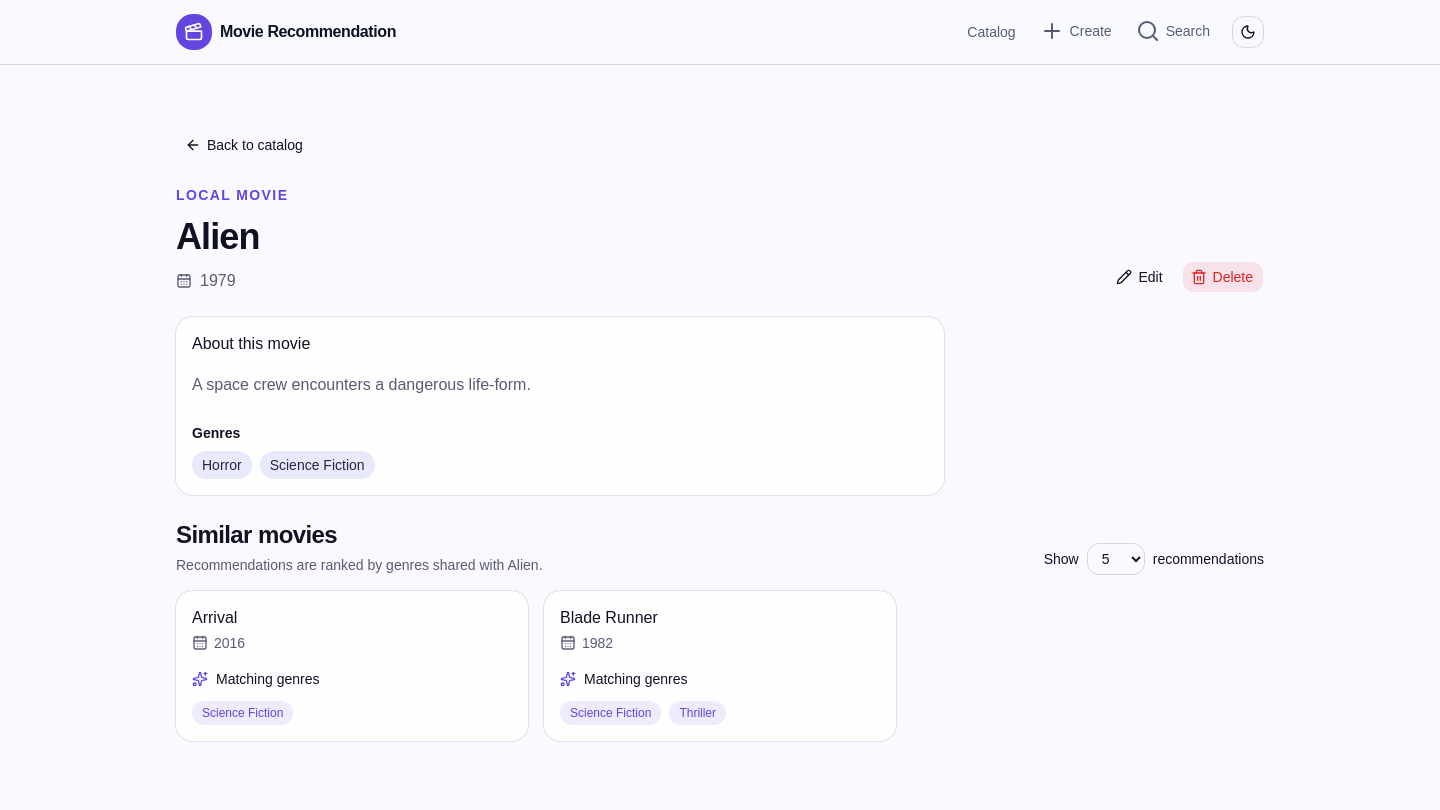
Scenario: DeleteMovieDialog › removes a deleted movie from cache and the catalog UI
Click the button "Delete" at point(1223, 277), box [1182, 261, 1264, 293]
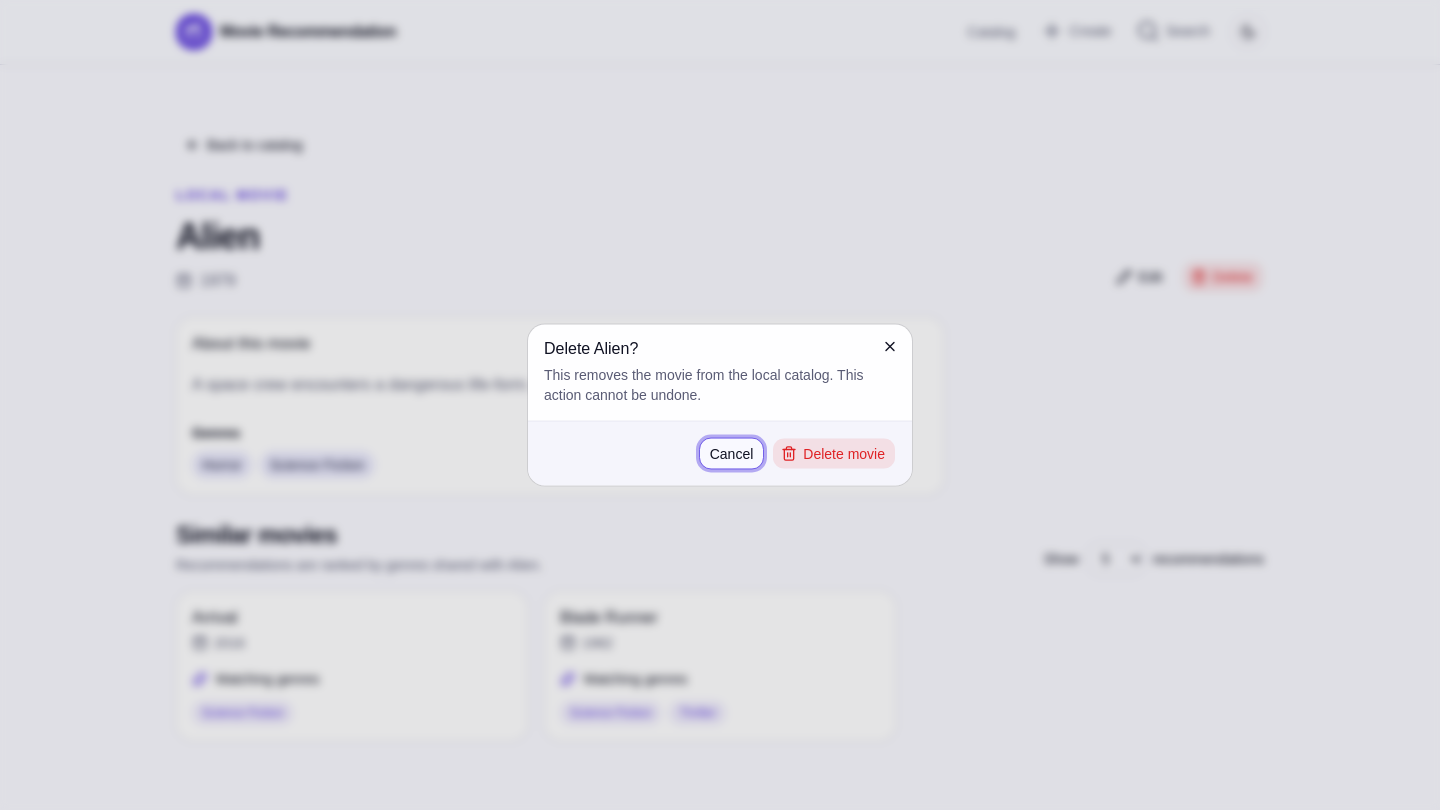
Click the button "Delete movie" at point(834, 454), box [772, 438, 896, 470]
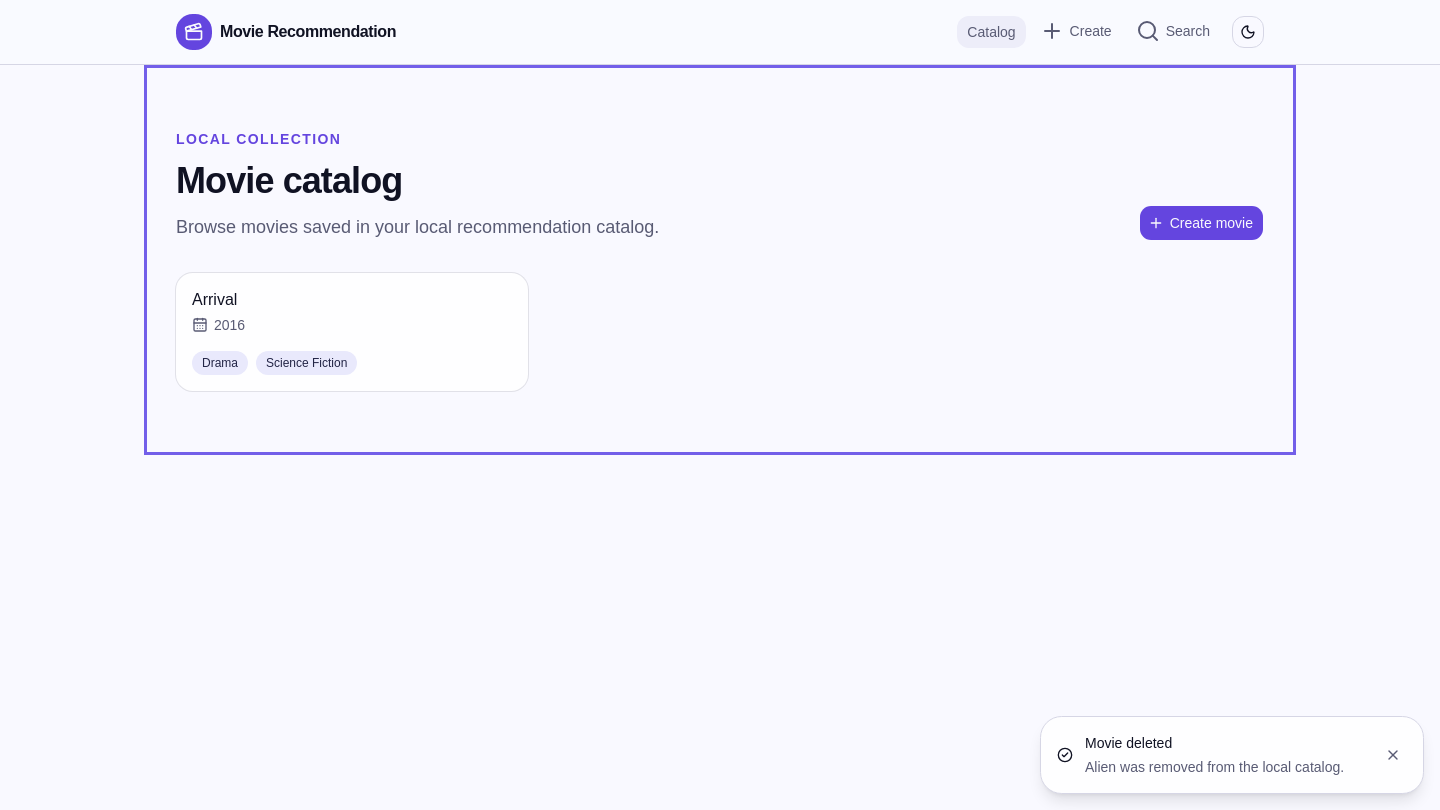
Expected: the heading "Arrival" is shown, [192, 291, 237, 308]
Expected: the heading "Movie deleted" is shown, [1085, 735, 1172, 751]
